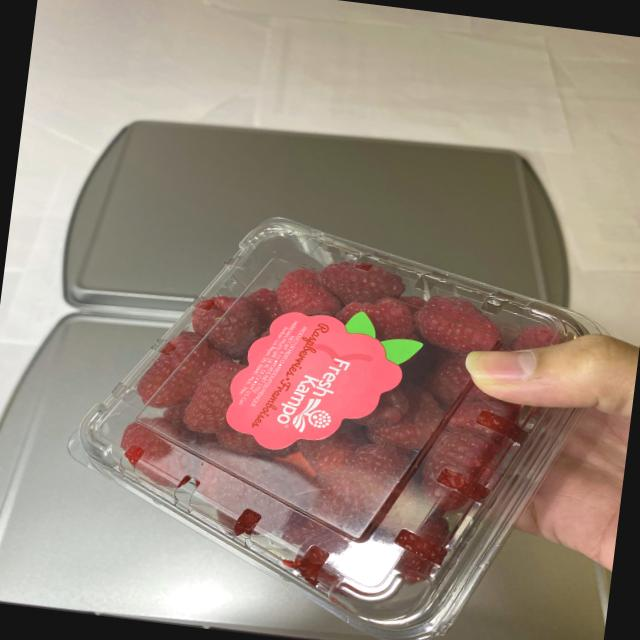raspberries: (116, 234, 576, 576)
